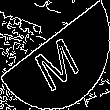M_NW: (28, 22, 82, 88)
